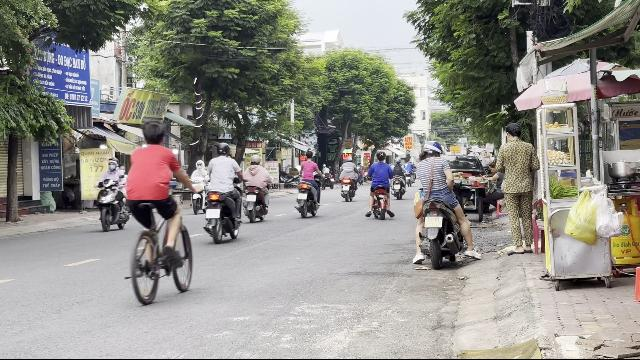helmet: (420, 141, 442, 159), (216, 142, 230, 156), (106, 158, 118, 170)
licenseplate: (425, 217, 443, 227), (206, 210, 220, 218)
motorcyclist: (408, 139, 476, 268), (202, 142, 242, 243), (92, 157, 128, 231)
